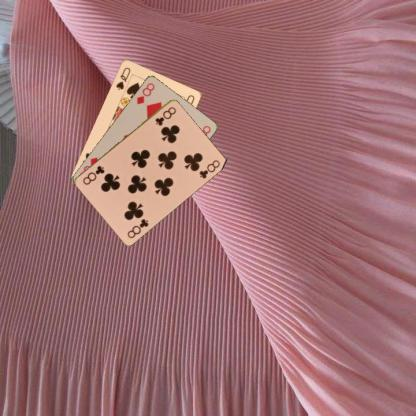8c: (152, 104, 178, 127), (124, 216, 150, 239)
8d: (134, 80, 156, 105)
Qs: (113, 64, 132, 91)
